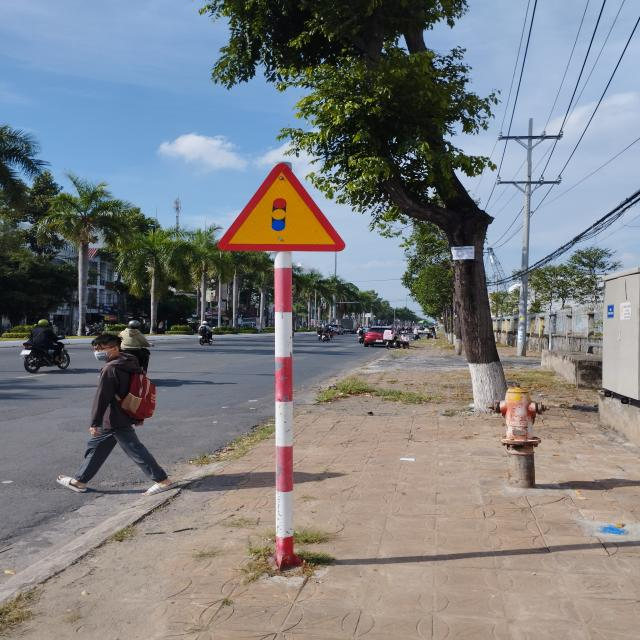Duong_Co_Go_Giam_Toc: (216, 164, 344, 251)
